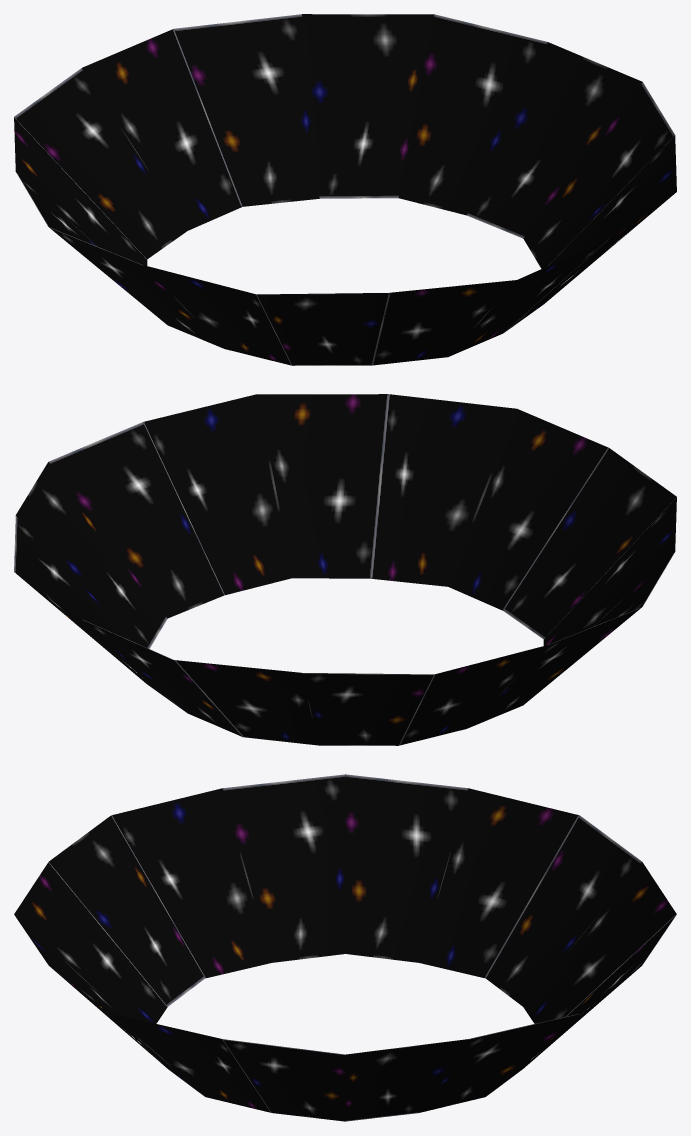
3 renders of one model, top to bottom at view 1: azimuth 30°, elevation 25°; view 2: azimuth 150°, elevation 25°; view 3: azimuth 270°, elevation 25°, orthographic. The views are drawn at different scales.
Parts seen in each view (by area): view 1: T1L5M009_25; view 2: T1L5M009_25; view 3: T1L5M009_25.
Boxes of the visible parts, x1,y1,x2,y2 form: T1L5M009_25: (14, 14, 676, 365); T1L5M009_25: (14, 394, 676, 745); T1L5M009_25: (14, 774, 676, 1121).
Size of the model in its own units: 2.87 by 0.5947 by 2.87.
